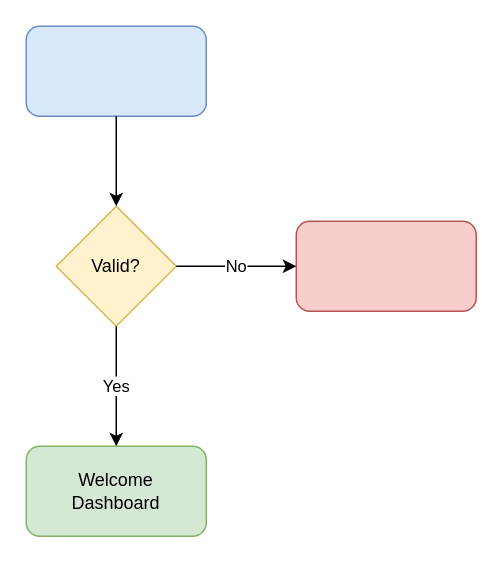
The diagram is 503 pixels wide and 563 high, and some of its shapes have lost their labels. Here are the shapes that lost their labels. From the top down, the centre of each, then its label:
the point at 115,70: Enter Credentials
the point at 385,265: Show Error
